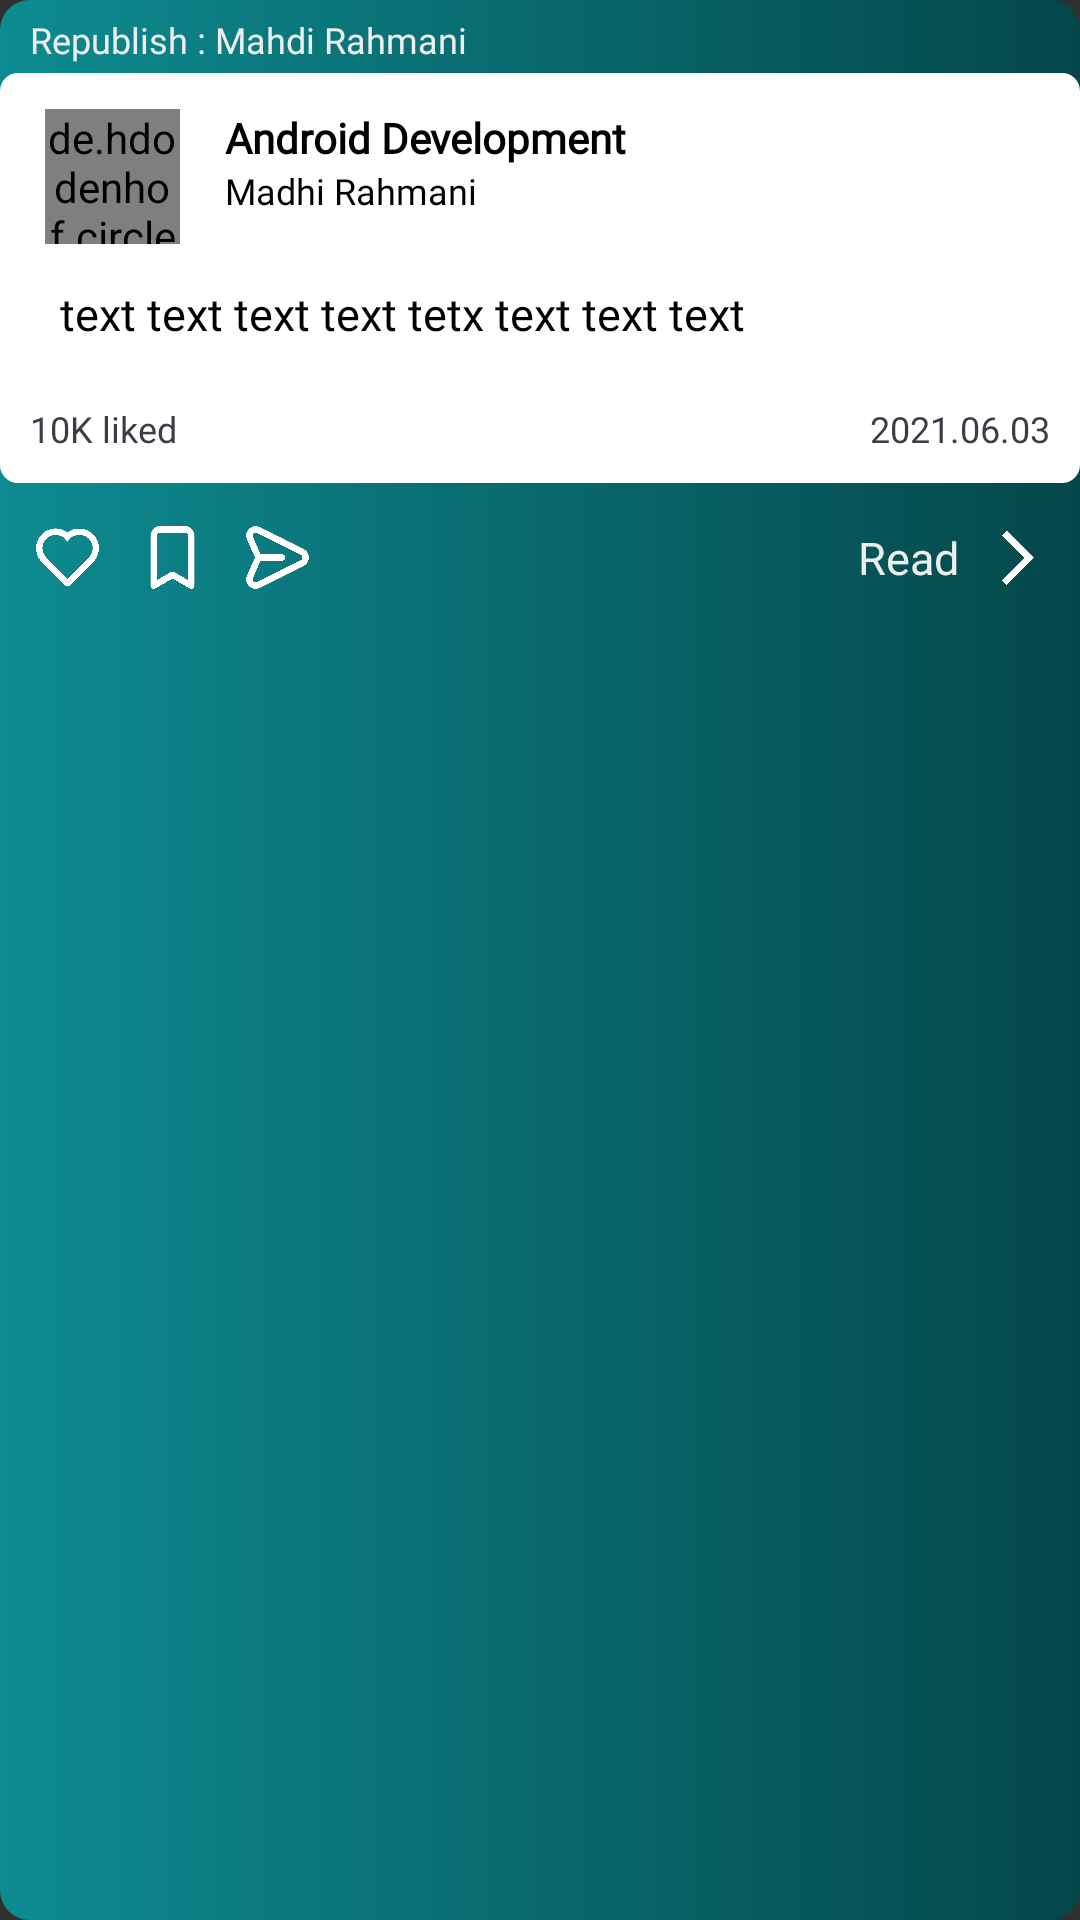

Screen size 1080×1920. Icon name, then its box in pixels as (x1, y1, x2, y2):
next: (1002, 531, 1034, 585)
paper plane: (246, 526, 309, 589)
